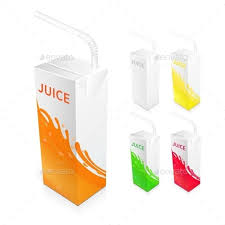Juice_Box: (39, 51, 109, 203), (170, 132, 201, 194), (129, 50, 160, 109), (168, 50, 200, 106), (130, 132, 159, 189)
